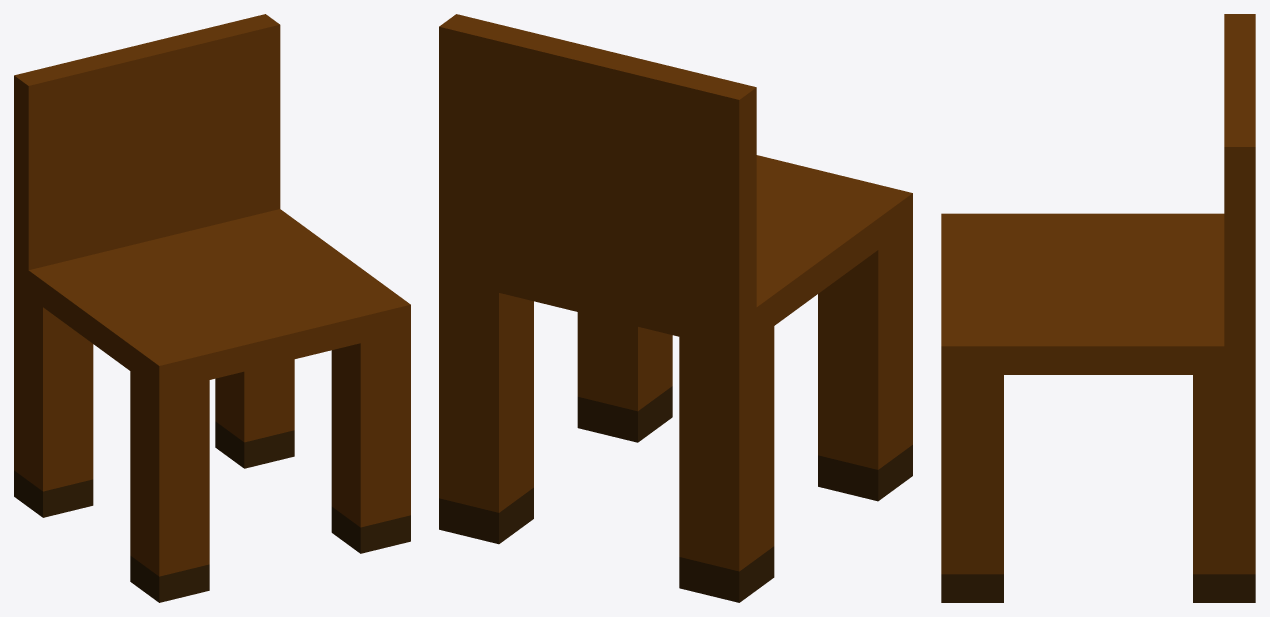
File: Chaise1(marron).obj
3 views of the same model, side by side, from view 1: azimuth 30°, elevation 25°; view 2: azimuth 150°, elevation 25°; view 3: azimuth 270°, elevation 25° (orthographic). The views are drawn at different scales.
Bounding box in the file's own units: 1 × 1.6 × 1.
1 material, 1 textured.
